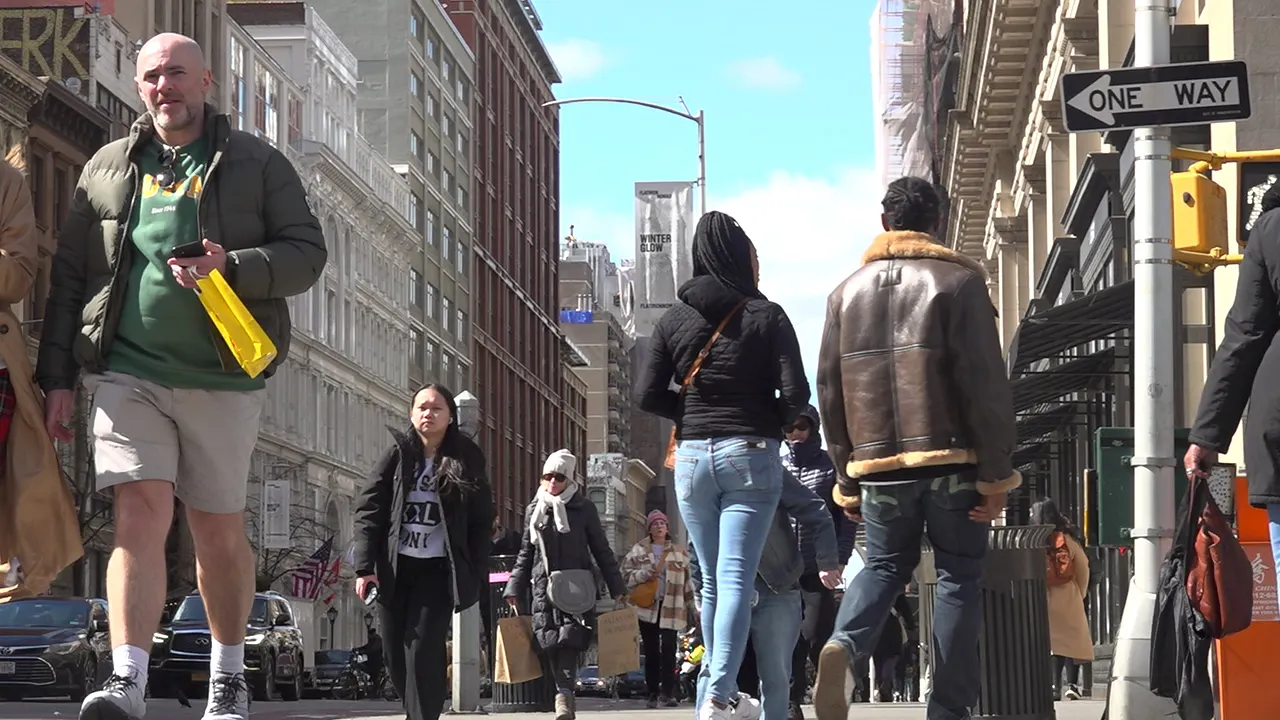person: (38, 28, 338, 720), (807, 159, 1026, 720), (631, 205, 813, 720), (1153, 155, 1280, 720), (351, 368, 498, 720), (1, 134, 88, 720), (493, 446, 632, 720), (774, 388, 857, 720), (614, 509, 701, 713), (1021, 478, 1093, 707), (856, 584, 921, 704), (352, 627, 390, 695)
